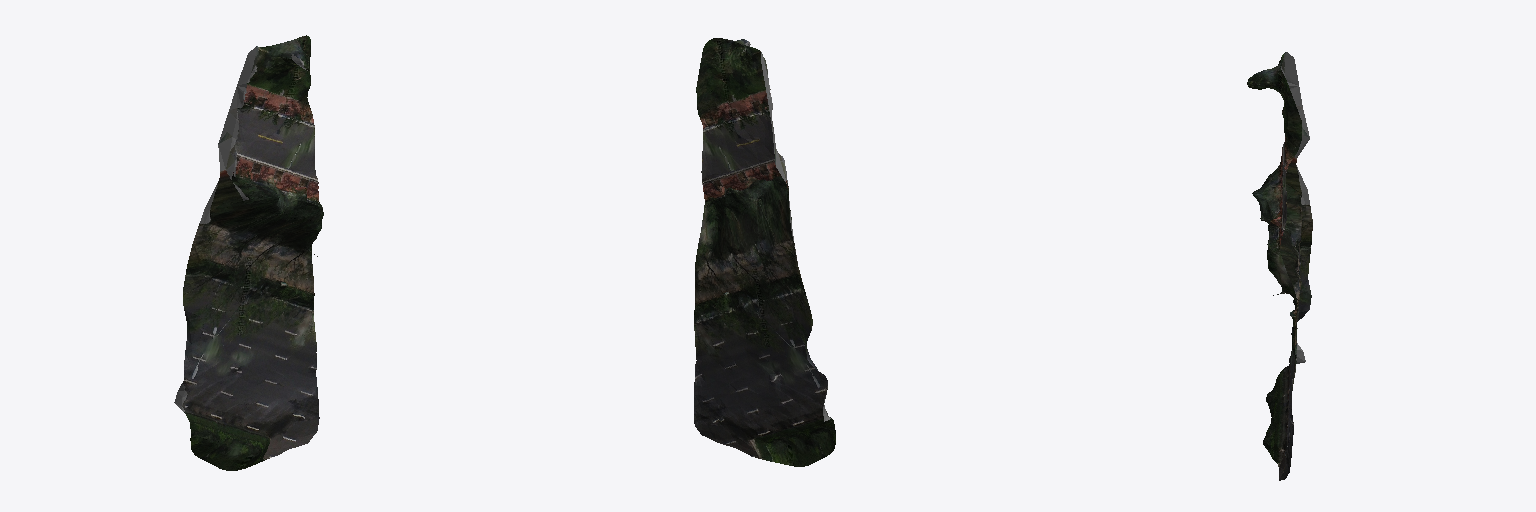
The picture shows the model from 3 angles: view 1: azimuth 30°, elevation 25°; view 2: azimuth 150°, elevation 25°; view 3: azimuth 270°, elevation 25°; orthographic projection.
Size of the model in its own units: 20.94 by 60.39 by 8.62.
2 materials, 1 textured.